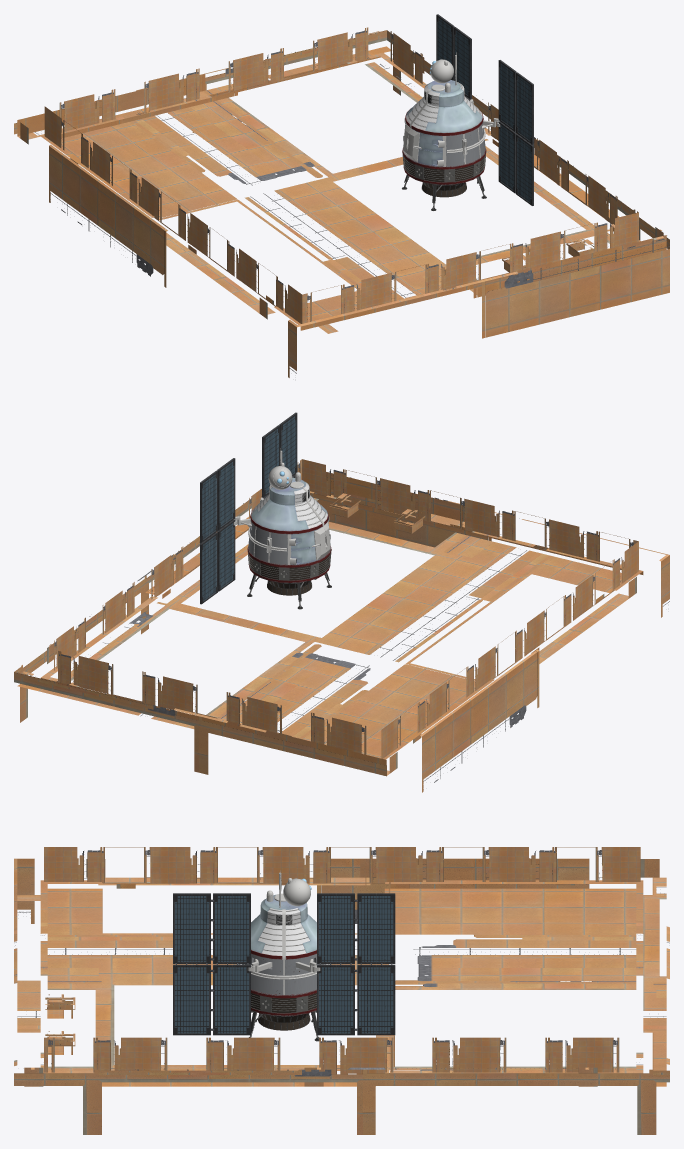
Rendered from timeM.fbx.
The picture shows the model from 3 angles, top to bottom: view 1: azimuth 30°, elevation 25°; view 2: azimuth 150°, elevation 25°; view 3: azimuth 270°, elevation 25°; orthographic projection. The views are drawn at different scales.
Visible parts, largest first — view 1: Cube.002, Cylinder.021, Plane.005; view 2: Cube.002, Cylinder.021, Plane.005; view 3: Cube.002, Plane.005, Cylinder.021, Roundcube.003.
Boxes of the visible parts, x1,y1,x2,y2 form: Cube.002: (14,27,669,377); Cylinder.021: (402,80,486,197); Plane.005: (436,14,533,205); Cube.002: (14,459,669,792); Cylinder.021: (247,477,331,595); Plane.005: (200,412,297,604); Cube.002: (14,847,669,1134); Plane.005: (173,893,395,1035); Cylinder.021: (242,894,325,1030); Roundcube.003: (283,878,310,906).
Size of the model in its own units: 2438 by 1126 by 3204.
